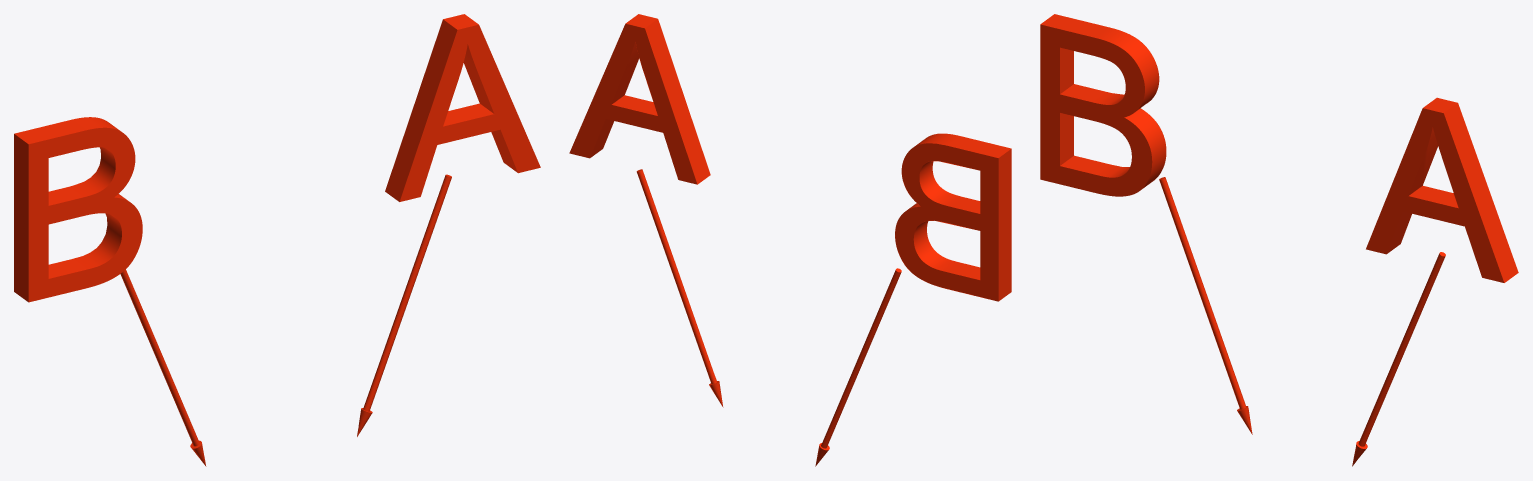
File: 2.2arrow.obj
3 renders of one model, left to right at view 1: azimuth 30°, elevation 25°; view 2: azimuth 150°, elevation 25°; view 3: azimuth 330°, elevation 25°, orthographic. The views are drawn at different scales.
Bounding box in the file's own units: 4.89 × 3.92 × 0.7218.
